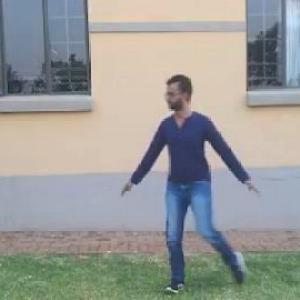land: (123, 82, 259, 261)
